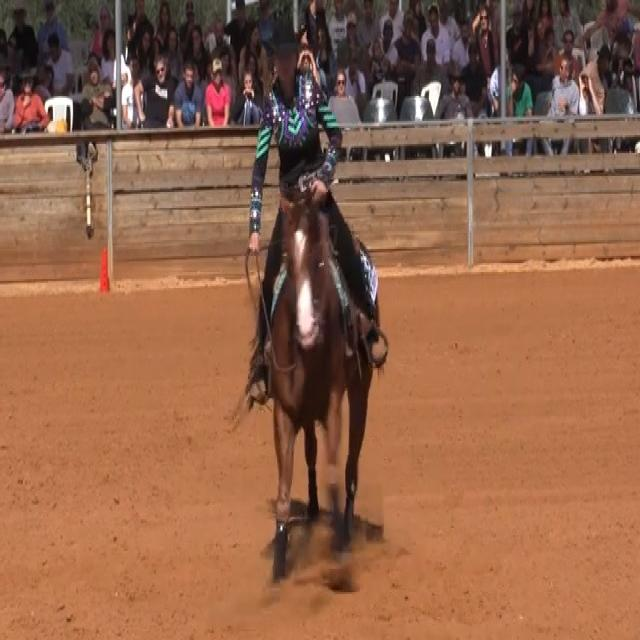horse: (259, 183, 376, 590)
